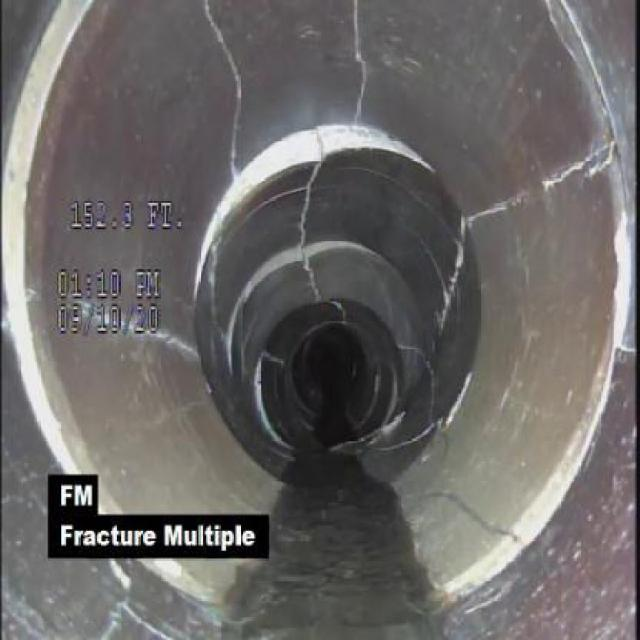Crack: (471, 143, 615, 228), (194, 0, 251, 174), (422, 485, 511, 540), (96, 310, 190, 352), (348, 1, 378, 124)
Joint offset: (6, 0, 94, 466), (254, 120, 443, 186), (437, 518, 563, 600)
